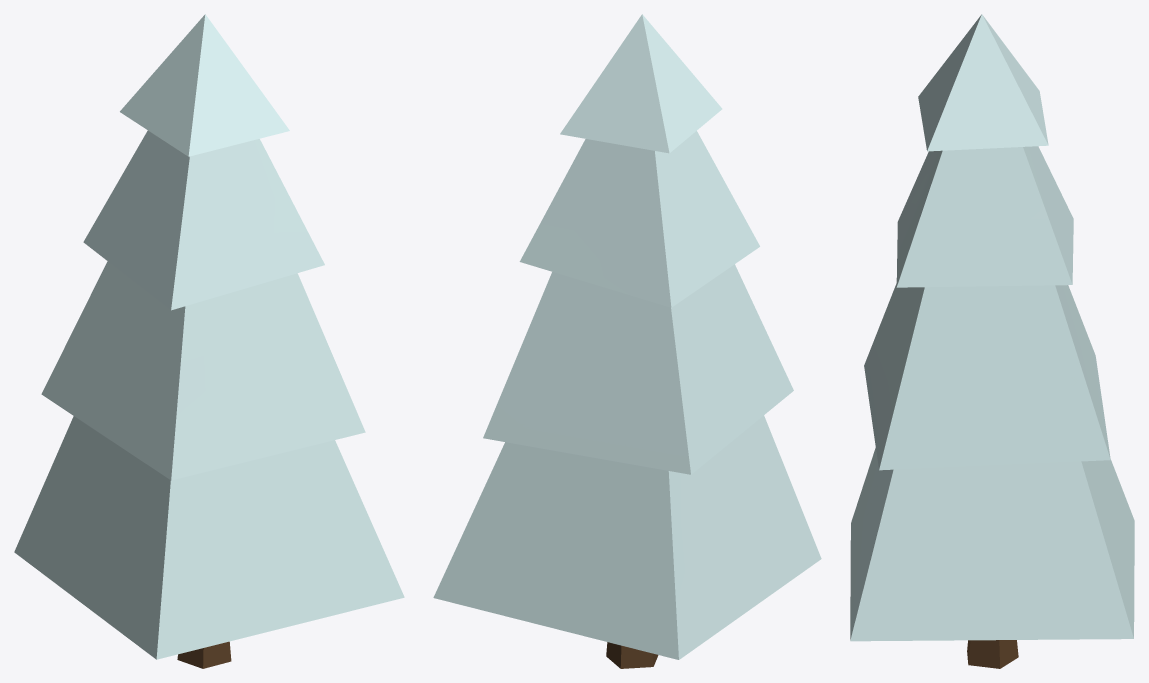
File: tree-fir_white.glb
3 views of the same model, side by side, from view 1: azimuth 30°, elevation 25°; view 2: azimuth 150°, elevation 25°; view 3: azimuth 270°, elevation 25° (orthographic).
Parts seen in each view (by area): view 1: tree-fir_frozen; view 2: tree-fir_frozen; view 3: tree-fir_frozen.
Part boxes in pixels (bbox=[...]): tree-fir_frozen: bbox=[14, 14, 404, 668]; tree-fir_frozen: bbox=[433, 14, 821, 668]; tree-fir_frozen: bbox=[850, 14, 1134, 668].
Bounding box in the file's own units: 2.33 × 5.79 × 2.33.
1 material, 1 textured.
